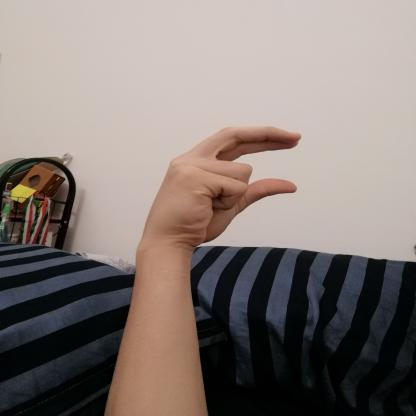DHELL: (134, 118, 315, 255)
